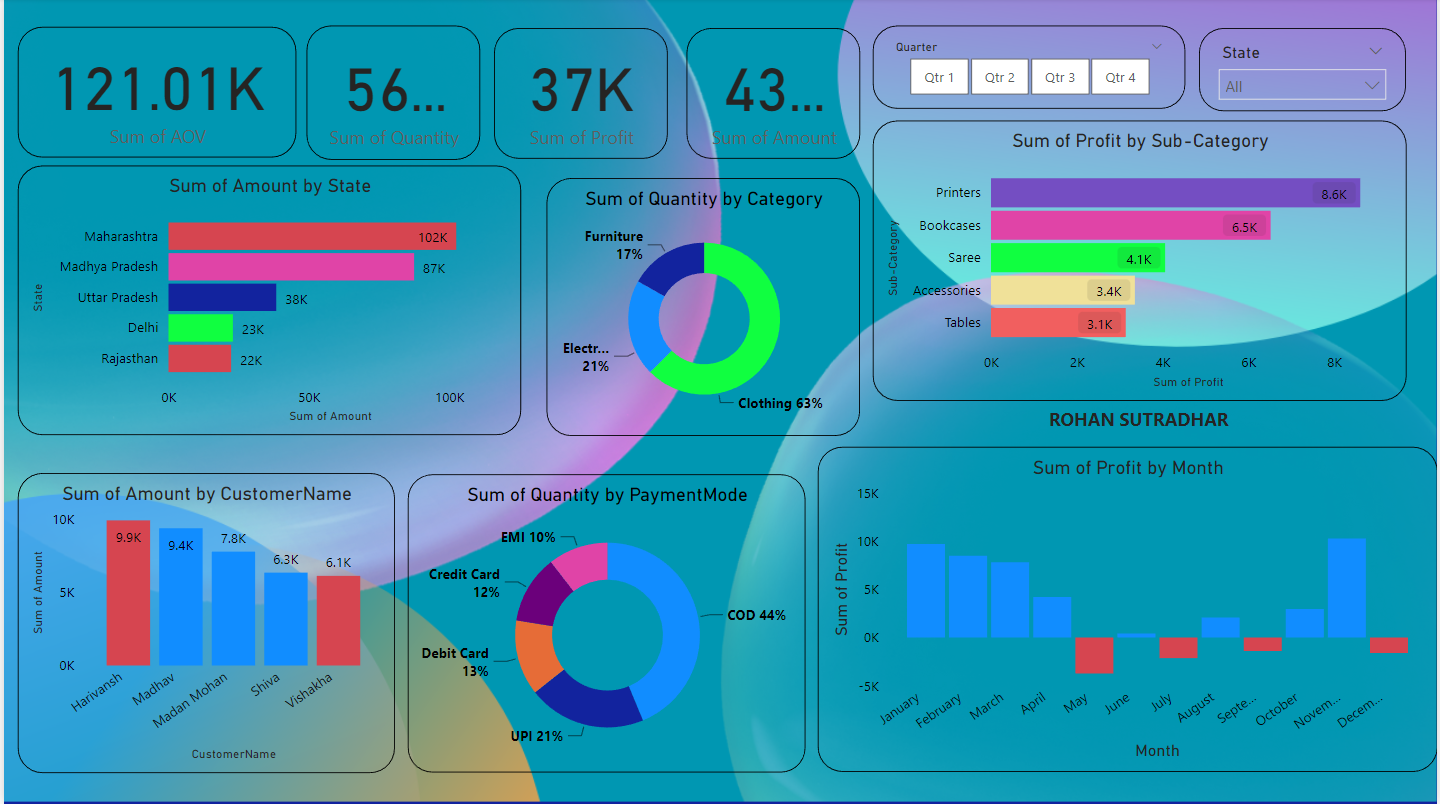

Layout of this report page (visuals, bound fields, positions):
{"tool":"powerbi","page":{"name":"Page 1","canvas":[1280,720],"ordinal":0},"visuals":[{"type":"textbox","box":[916.8,359.4,193.9,40.4],"z":0},{"type":"columnChart","fields":{"Category":["Orders.Order Date.Variation.Date Hierarchy.Month"],"Y":["Details.Profit"]},"box":[727,401.2,553.3,290.8],"z":1000},{"type":"clusteredBarChart","fields":{"Category":["Details.Sub-Category"],"Y":["Details.Profit"]},"box":[775.4,109,476.6,250.4],"z":2000},{"type":"donutChart","fields":{"Category":["Details.Category"],"Y":["Details.Quantity"]},"box":[484.6,160.2,280,230.2],"z":3000},{"type":"donutChart","fields":{"Y":["Details.Quantity"],"Category":["Details.PaymentMode"]},"box":[360.8,425.4,355.4,266.6],"z":4000},{"type":"card","fields":{"Values":["Details.Amount"]},"box":[609.8,26.9,154.8,117.1],"z":5000},{"type":"card","fields":{"Values":["Details.Quantity"]},"box":[270.6,24.2,154.8,119.8],"z":6000},{"type":"card","fields":{"Values":["Details.Profit"]},"box":[437.5,26.9,154.8,117.1],"z":7000},{"type":"card","fields":{"Values":["Details.AOV"]},"box":[12.1,25.6,249.1,117.1],"z":8000},{"type":"clusteredBarChart","fields":{"Category":["Orders.State"],"Y":["Details.Amount"]},"box":[12.1,149.4,449.6,241],"z":8001},{"type":"columnChart","fields":{"Category":["Orders.CustomerName"],"Y":["Details.Amount"]},"box":[12.1,424.1,336.6,267.9],"z":8002},{"type":"slicer","fields":{"Values":["Orders.Order Date.Variation.Date Hierarchy.Quarter"]},"box":[775.6,24.4,279.1,74.4],"z":8003},{"type":"slicer","fields":{"Values":["Orders.State"]},"box":[1067.4,26.7,184.9,74.4],"z":8004}]}

Visuals, with their boxes in screenshot pixels (x1, y1, x2, y2), scaled from the page's 1280x720 canvas onto the 1440x804 screenshot:
textbox: <bbox>1031, 401, 1250, 446</bbox>
columnChart - Orders.Order Date.Variation.Date Hierarchy.Month x Details.Profit: <bbox>818, 448, 1439, 773</bbox>
clusteredBarChart - Details.Sub-Category x Details.Profit: <bbox>872, 122, 1408, 401</bbox>
donutChart - Details.Category x Details.Quantity: <bbox>545, 179, 860, 436</bbox>
donutChart - Details.Quantity x Details.PaymentMode: <bbox>406, 475, 806, 773</bbox>
card - Details.Amount: <bbox>686, 30, 860, 161</bbox>
card - Details.Quantity: <bbox>304, 27, 479, 161</bbox>
card - Details.Profit: <bbox>492, 30, 666, 161</bbox>
card - Details.AOV: <bbox>14, 29, 294, 159</bbox>
clusteredBarChart - Orders.State x Details.Amount: <bbox>14, 167, 519, 436</bbox>
columnChart - Orders.CustomerName x Details.Amount: <bbox>14, 474, 392, 773</bbox>
slicer - Orders.Order Date.Variation.Date Hierarchy.Quarter: <bbox>873, 27, 1187, 110</bbox>
slicer - Orders.State: <bbox>1201, 30, 1409, 113</bbox>
